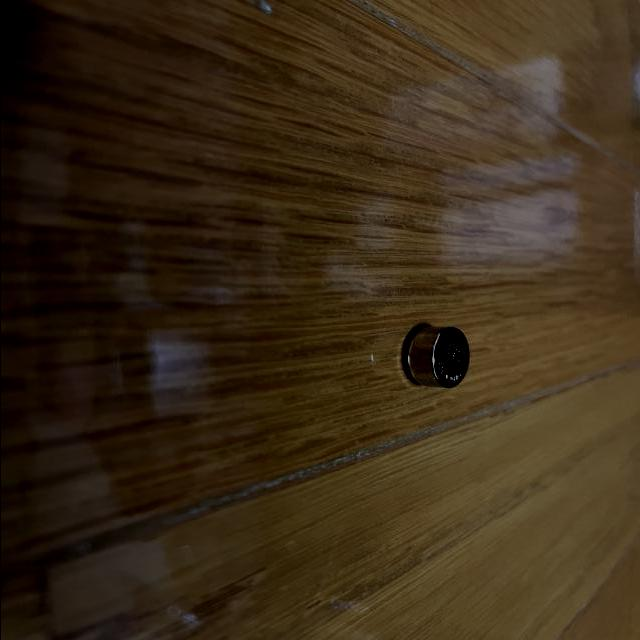COIN: (404, 325, 470, 390)
